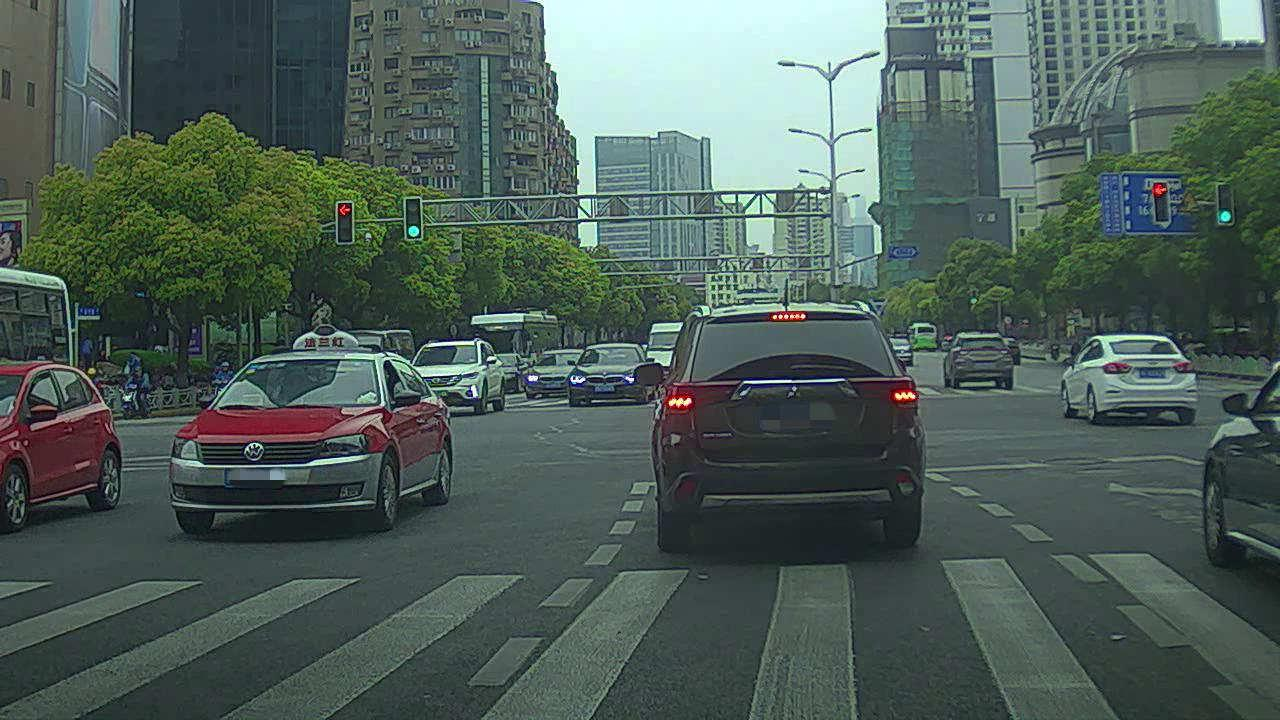traffic_light: (1150, 179, 1175, 227), (402, 198, 427, 245), (1216, 183, 1240, 226), (335, 200, 357, 243)
